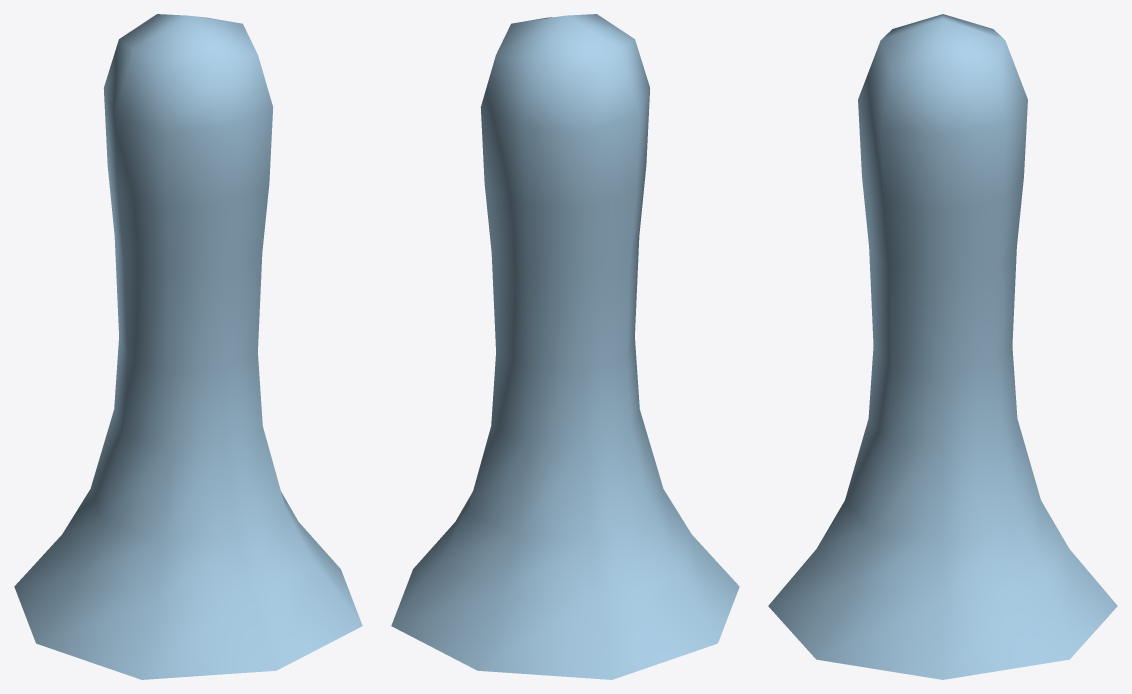
File: WaterTentacle.fbx
The picture shows the model from 3 angles, left to right: view 1: azimuth 30°, elevation 25°; view 2: azimuth 150°, elevation 25°; view 3: azimuth 270°, elevation 25°; orthographic projection.
Visible parts, largest first — view 1: Vert; view 2: Vert; view 3: Vert.
Part boxes in pixels (left/top/right/bottom): Vert: left=14, top=14, right=362, bottom=679; Vert: left=391, top=14, right=739, bottom=679; Vert: left=768, top=14, right=1117, bottom=679.
Bounding box in the file's own units: 303 × 561 × 303.
